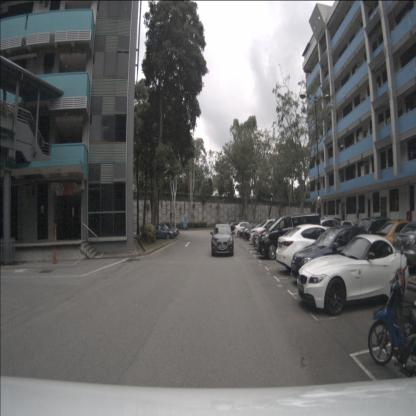cone: (52, 248, 58, 263)
